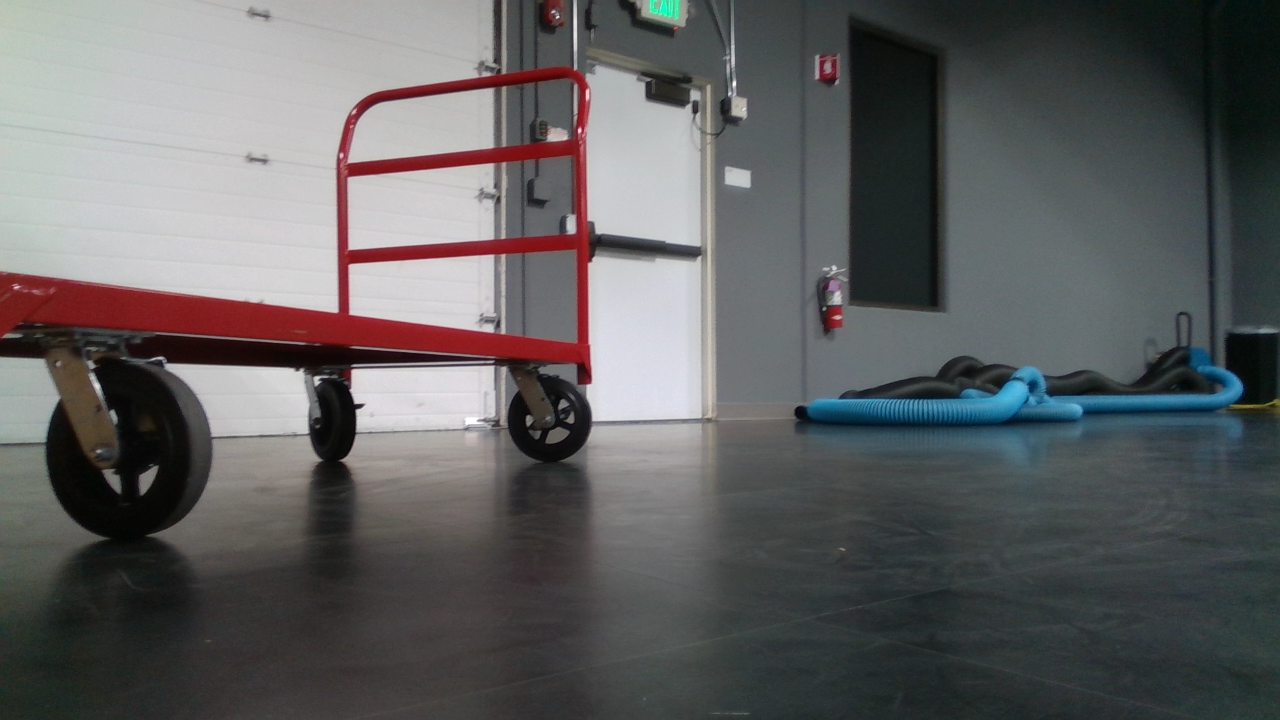Dolly: (0, 62, 599, 553)
Wheel: (42, 353, 215, 543), (506, 371, 594, 465), (305, 374, 367, 463)
